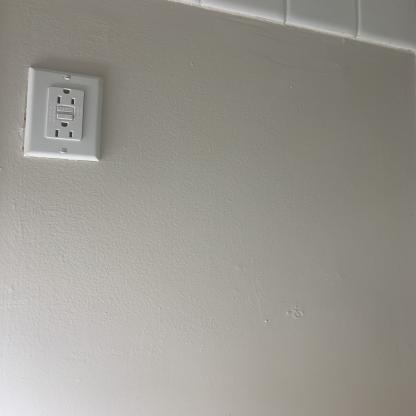OUTLET: (24, 72, 105, 159)
